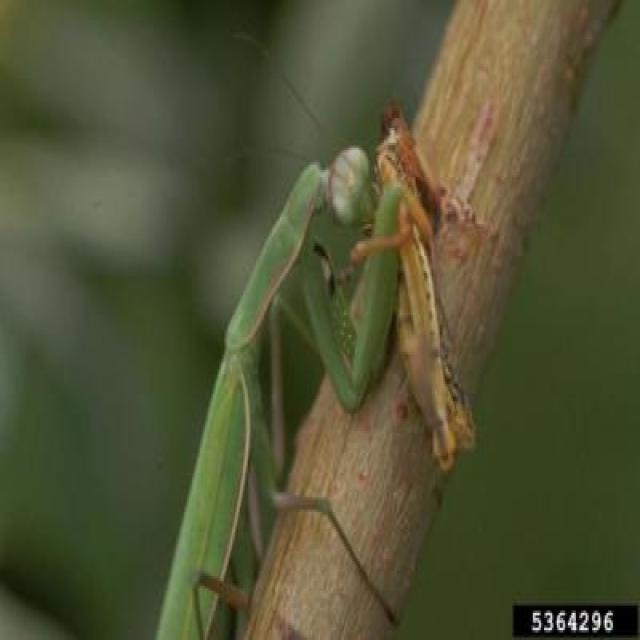antennae: (239, 36, 342, 157)
body: (158, 150, 370, 639)
insect: (152, 37, 414, 640)
legs: (250, 378, 395, 620), (304, 193, 420, 414), (262, 285, 314, 483), (186, 571, 290, 640)
mouthpart: (357, 176, 383, 228)
wings: (157, 353, 250, 640)
